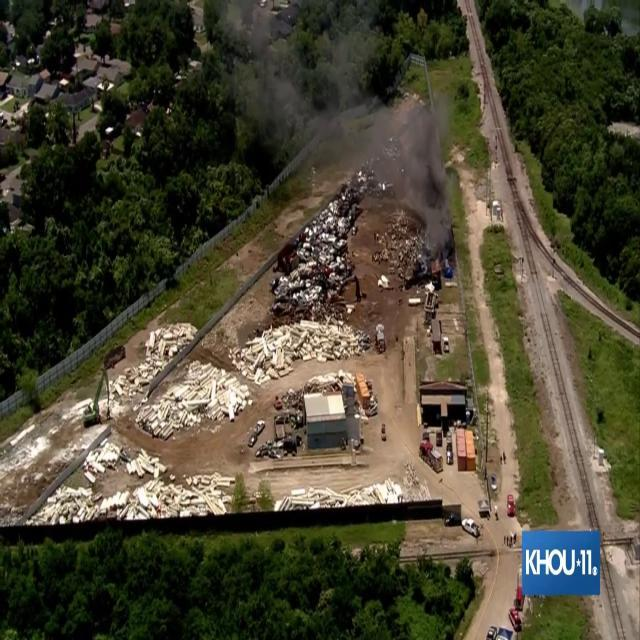Smoke: (299, 61, 459, 249)
